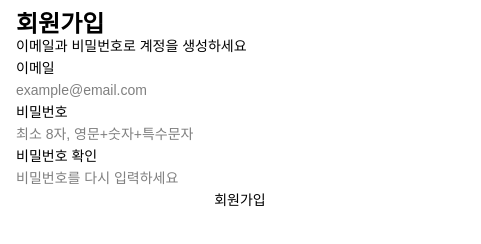
SignupForm › 비밀번호가 너무 짧은 에러를 처리한다
The width and height of the screenshot is (481, 244).
Note: 유효한 데이터 입력
Step 1. Type "test@example.com" into the field labelled "이메일" → (240, 90), box x1=16 y1=80 x2=464 y2=100
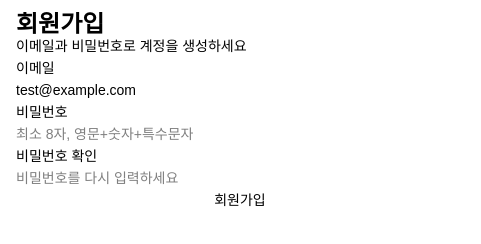
Step 2. Type "Password123!" into the password field labelled "비밀번호" → (240, 134), box x1=16 y1=124 x2=464 y2=144
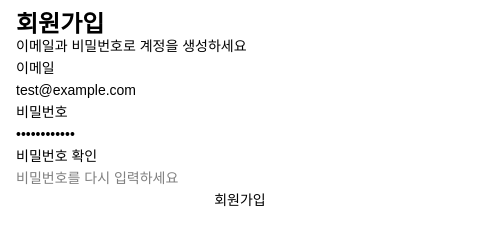
Step 3. Type "Password123!" into the password field labelled "비밀번호 확인" → (240, 178), box x1=16 y1=168 x2=464 y2=188
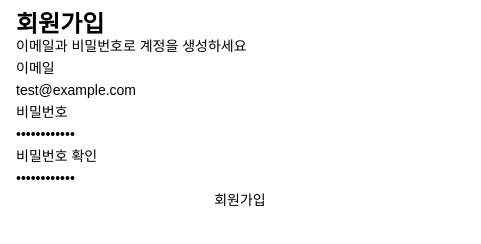
Step 4. Click the button "회원가입" → click(240, 200), box x1=16 y1=190 x2=464 y2=210
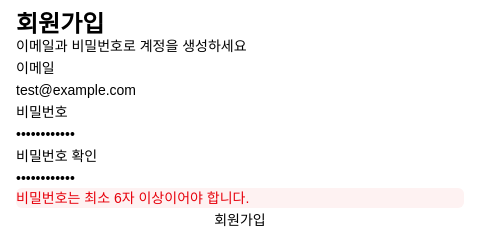
Expected: the text "비밀번호는 최소 6자 이상이어야 합니다." is shown, x1=16 y1=190 x2=249 y2=206
